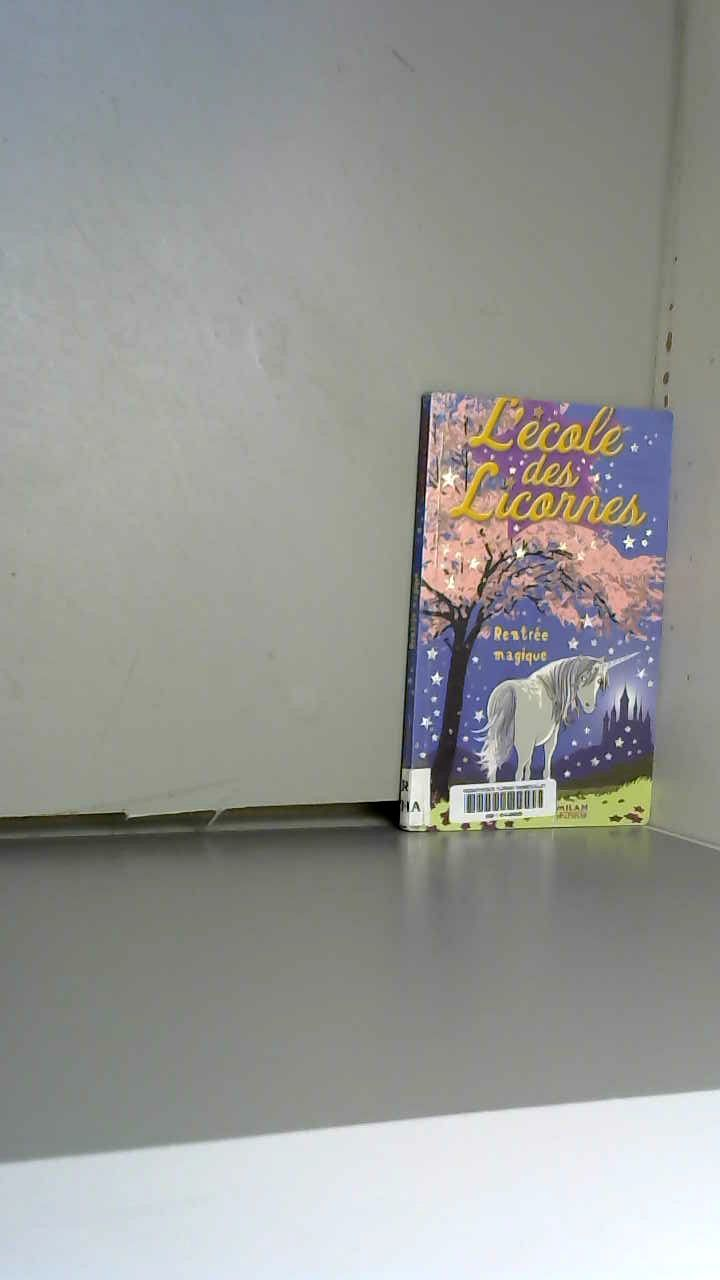book: (380, 370, 720, 861)
